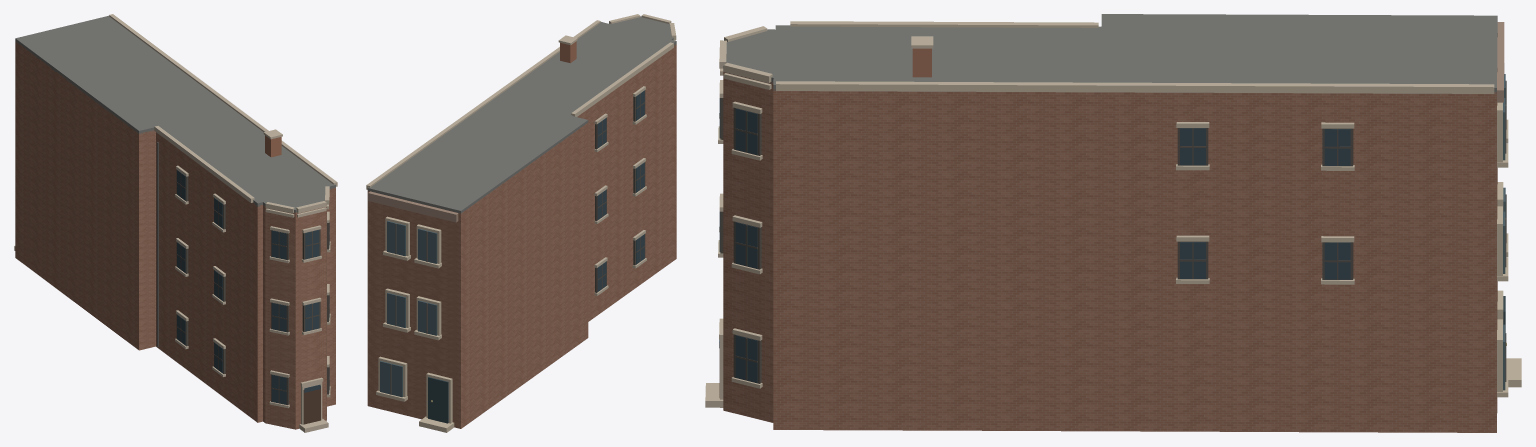
Rendered from Park-2228-Portable-Fixture.fbx.
The picture shows the model from 3 angles, left to right: view 1: azimuth 30°, elevation 25°; view 2: azimuth 150°, elevation 25°; view 3: azimuth 270°, elevation 25°; orthographic projection. The views are drawn at different scales.
Visible parts, largest first — view 1: park-2228; view 2: park-2228; view 3: park-2228.
Boxes of the visible parts, x1=… form: park-2228: x1=14, y1=14, x2=337, y2=432; park-2228: x1=366, y1=14, x2=676, y2=432; park-2228: x1=705, y1=14, x2=1521, y2=432.
Bounding box in the file's own units: 5.22 × 12.19 × 23.8.
Materials: 15 (1 with a texture image).
